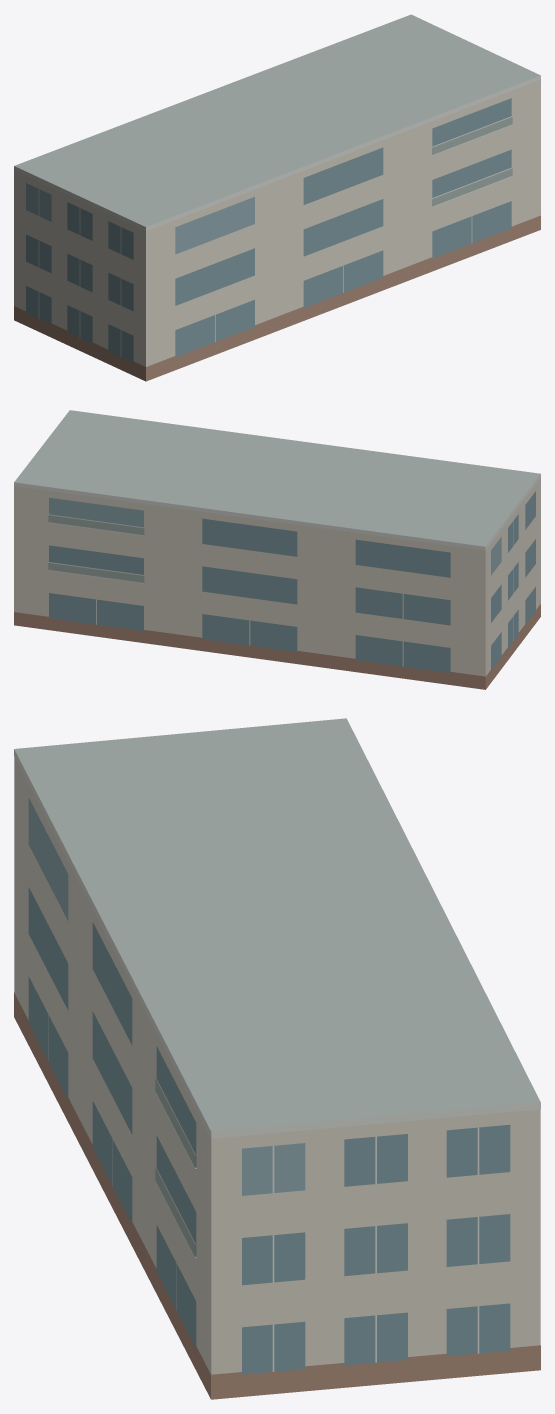
The model's file is survey-upis-32752053.glb.
The picture shows the model from 3 angles, top to bottom: view 1: azimuth 30°, elevation 25°; view 2: azimuth 150°, elevation 25°; view 3: azimuth 270°, elevation 25°; orthographic projection. The views are drawn at different scales.
Parts seen in each view (by area): view 1: survey-upis-32752053.tmp; view 2: survey-upis-32752053.tmp; view 3: survey-upis-32752053.tmp.
Boxes of the visible parts, box(x1,y1,x2,y2) form: survey-upis-32752053.tmp: box(14, 14, 540, 381); survey-upis-32752053.tmp: box(14, 410, 540, 689); survey-upis-32752053.tmp: box(14, 718, 540, 1399).
Size of the model in its own units: 30.27 by 9.15 by 16.31.
